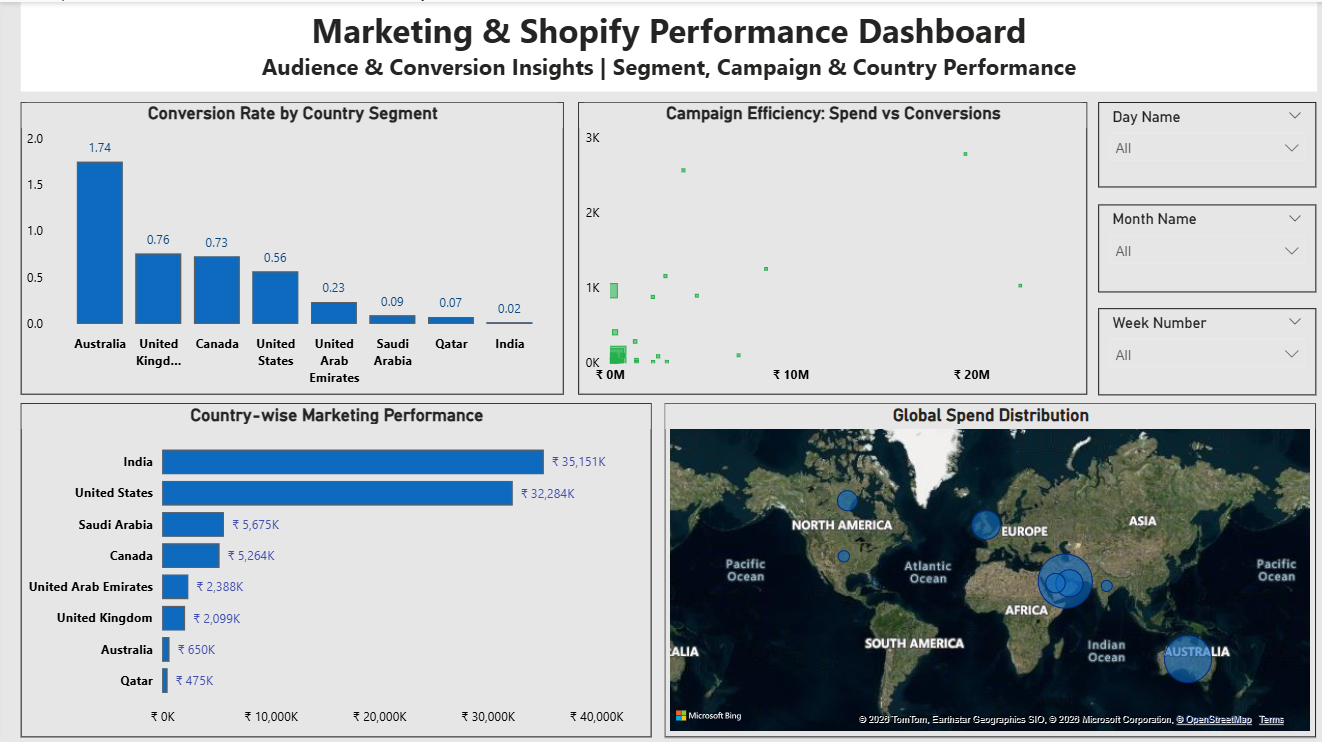

The page's visual inventory and layout, read from the dashboard file:
{"tool":"powerbi","page":{"name":"Audience & Conversion Insights","canvas":[1280,720],"ordinal":2},"visuals":[{"type":"textbox","box":[17.5,0,1251.2,86.2],"z":0},{"type":"columnChart","title":"Conversion Rate by Country Segment","fields":{"Category":["Campaign_Cleaned.Country Funnel"],"Y":["DAX.Conversion Rate %"]},"box":[17.5,96.2,523.8,282.5],"z":1000},{"type":"scatterChart","title":"Campaign Efficiency: Spend vs Conversions","fields":{"X":["DAX.Total Spend"],"Y":["DAX.Total Conversions"],"Size":["DAX.ROI %"],"Category":["Campaign_Cleaned.Campaign Name"]},"box":[556.2,96.2,491.2,282.5],"z":2000},{"type":"clusteredBarChart","title":"Country-wise Marketing Performance","fields":{"Category":["Campaign_Cleaned.Country Funnel"],"Y":["DAX.Total Spend"]},"box":[17.5,387.5,608.8,322.5],"z":3000},{"type":"map","title":"Global Spend Distribution","fields":{"Category":["Campaign_Cleaned.Country Funnel"],"Size":["DAX.ROAS"]},"box":[640,387.5,628.8,322.5],"z":4000},{"type":"slicer","fields":{"Values":["Calendar.Day Name"]},"box":[1057.5,96.2,210,82.5],"z":5000},{"type":"slicer","fields":{"Values":["Calendar.Month Name"]},"box":[1057.5,195,210,85],"z":6000},{"type":"slicer","fields":{"Values":["Calendar.Week Number"]},"box":[1057.5,295,210,83.8],"z":7000}]}

Visuals, with their boxes in screenshot pixels (x1, y1, x2, y2), scaled from the page's 1280x720 canvas onto the 1322x742 screenshot:
textbox: <region>18, 0, 1310, 89</region>
"Conversion Rate by Country Segment" columnChart: <region>18, 99, 559, 390</region>
"Campaign Efficiency: Spend vs Conversions" scatterChart: <region>574, 99, 1082, 390</region>
"Country-wise Marketing Performance" clusteredBarChart: <region>18, 399, 647, 732</region>
"Global Spend Distribution" map: <region>661, 399, 1310, 732</region>
slicer - Calendar.Day Name: <region>1092, 99, 1309, 184</region>
slicer - Calendar.Month Name: <region>1092, 201, 1309, 289</region>
slicer - Calendar.Week Number: <region>1092, 304, 1309, 390</region>
